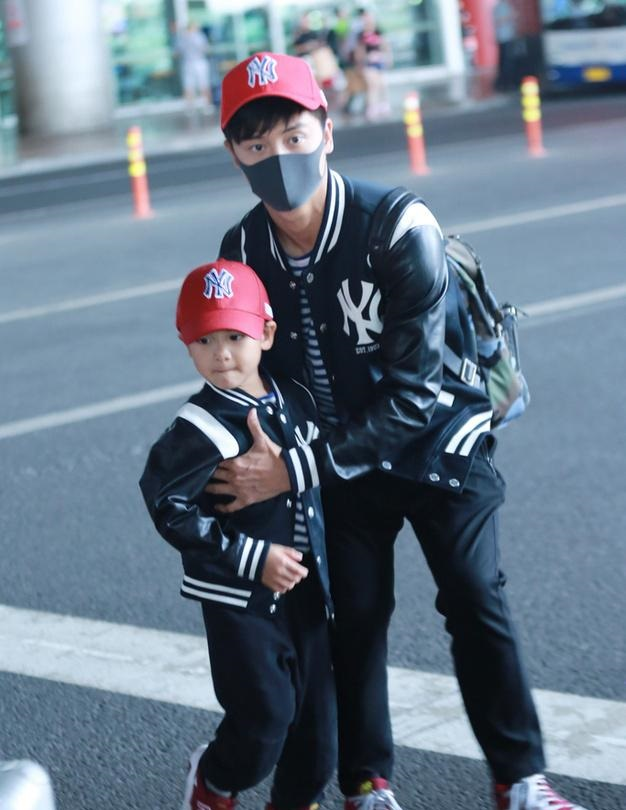face: (192, 309, 257, 392)
face_mask: (236, 92, 322, 208)
